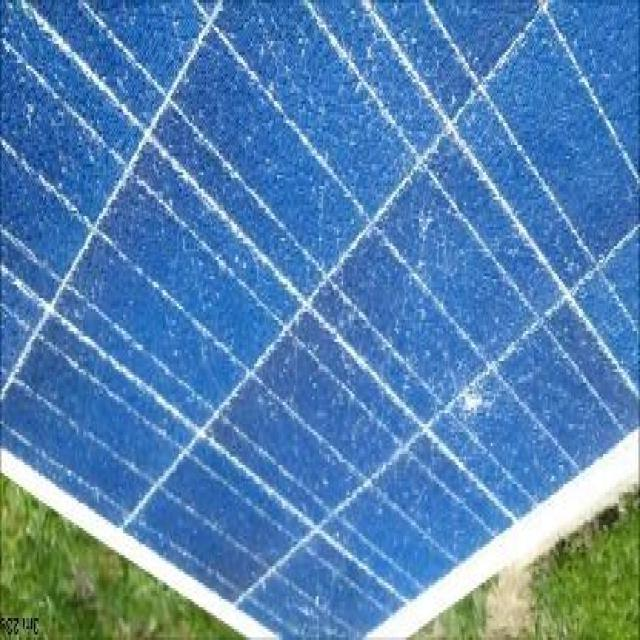cracked: (3, 0, 632, 638)
